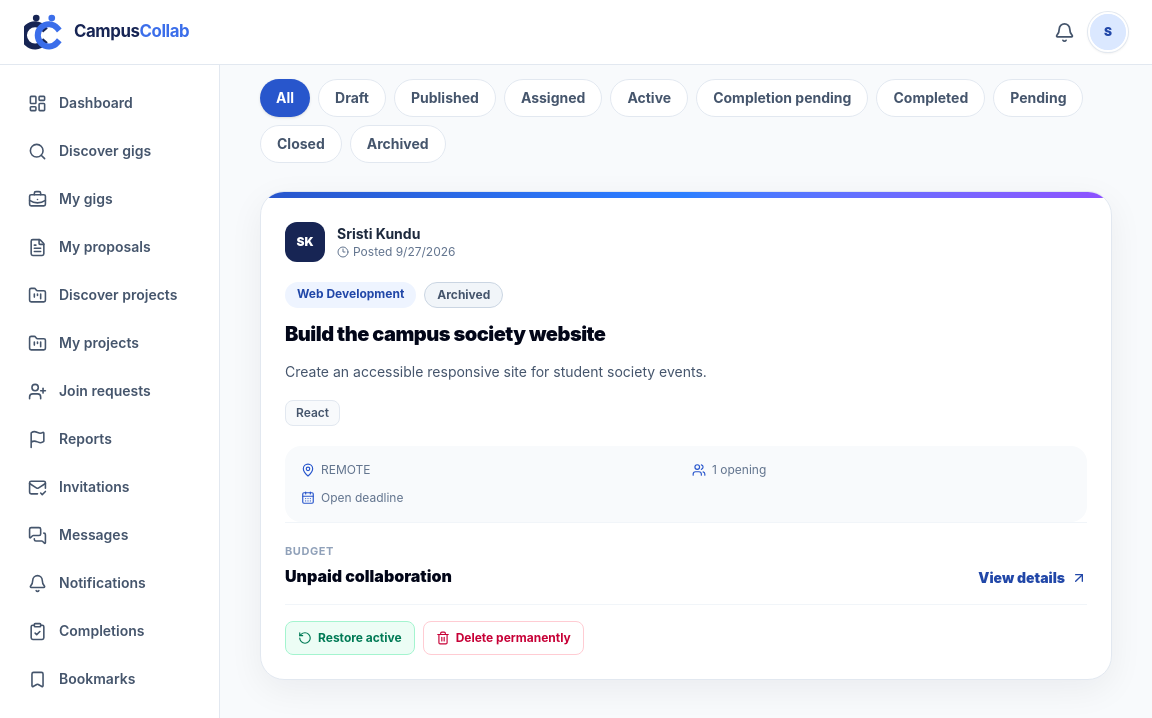
Gigs Marketplace › restores an archived gig with its returned published lifecycle badge
(page scrolled)
Click the button "Restore active": x=350, y=638 [285, 620, 415, 654]
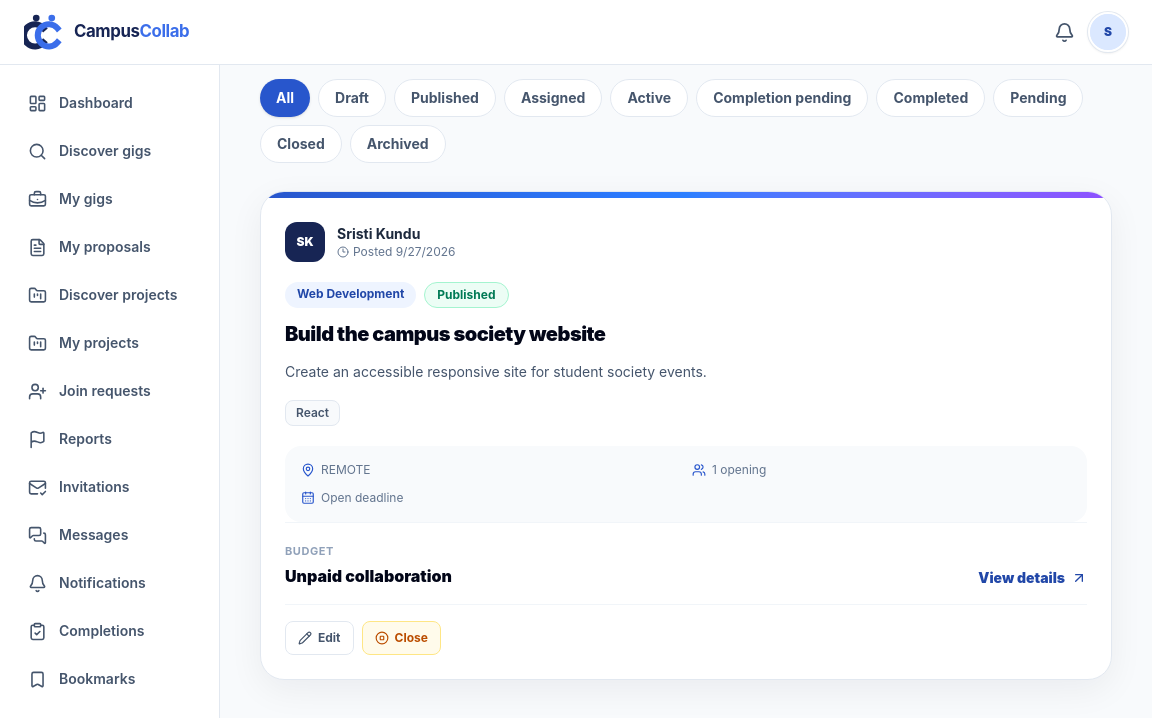
Expected: the text named "Gig status: Published" is shown, [424, 282, 508, 308]
